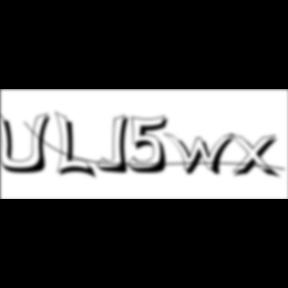5: (128, 114, 174, 176)
J: (97, 114, 136, 176)
L: (55, 110, 99, 182)
U: (0, 110, 56, 176)
w: (164, 132, 242, 178)
x: (230, 132, 284, 181)
